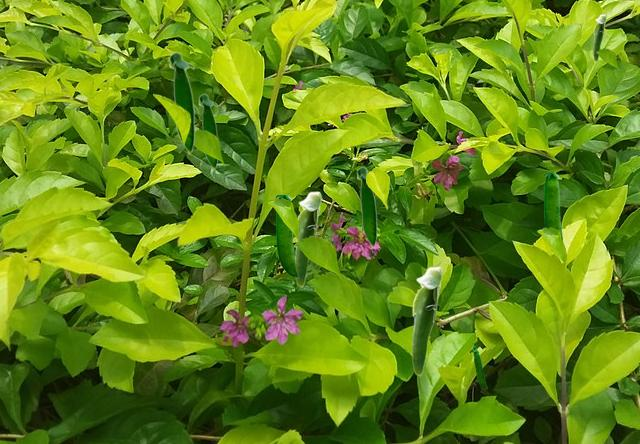pea: (411, 266, 442, 375), (168, 51, 194, 155), (295, 191, 321, 286), (276, 195, 297, 277), (356, 166, 376, 248), (198, 93, 217, 170), (544, 173, 563, 239), (593, 14, 605, 60), (473, 346, 486, 388)
